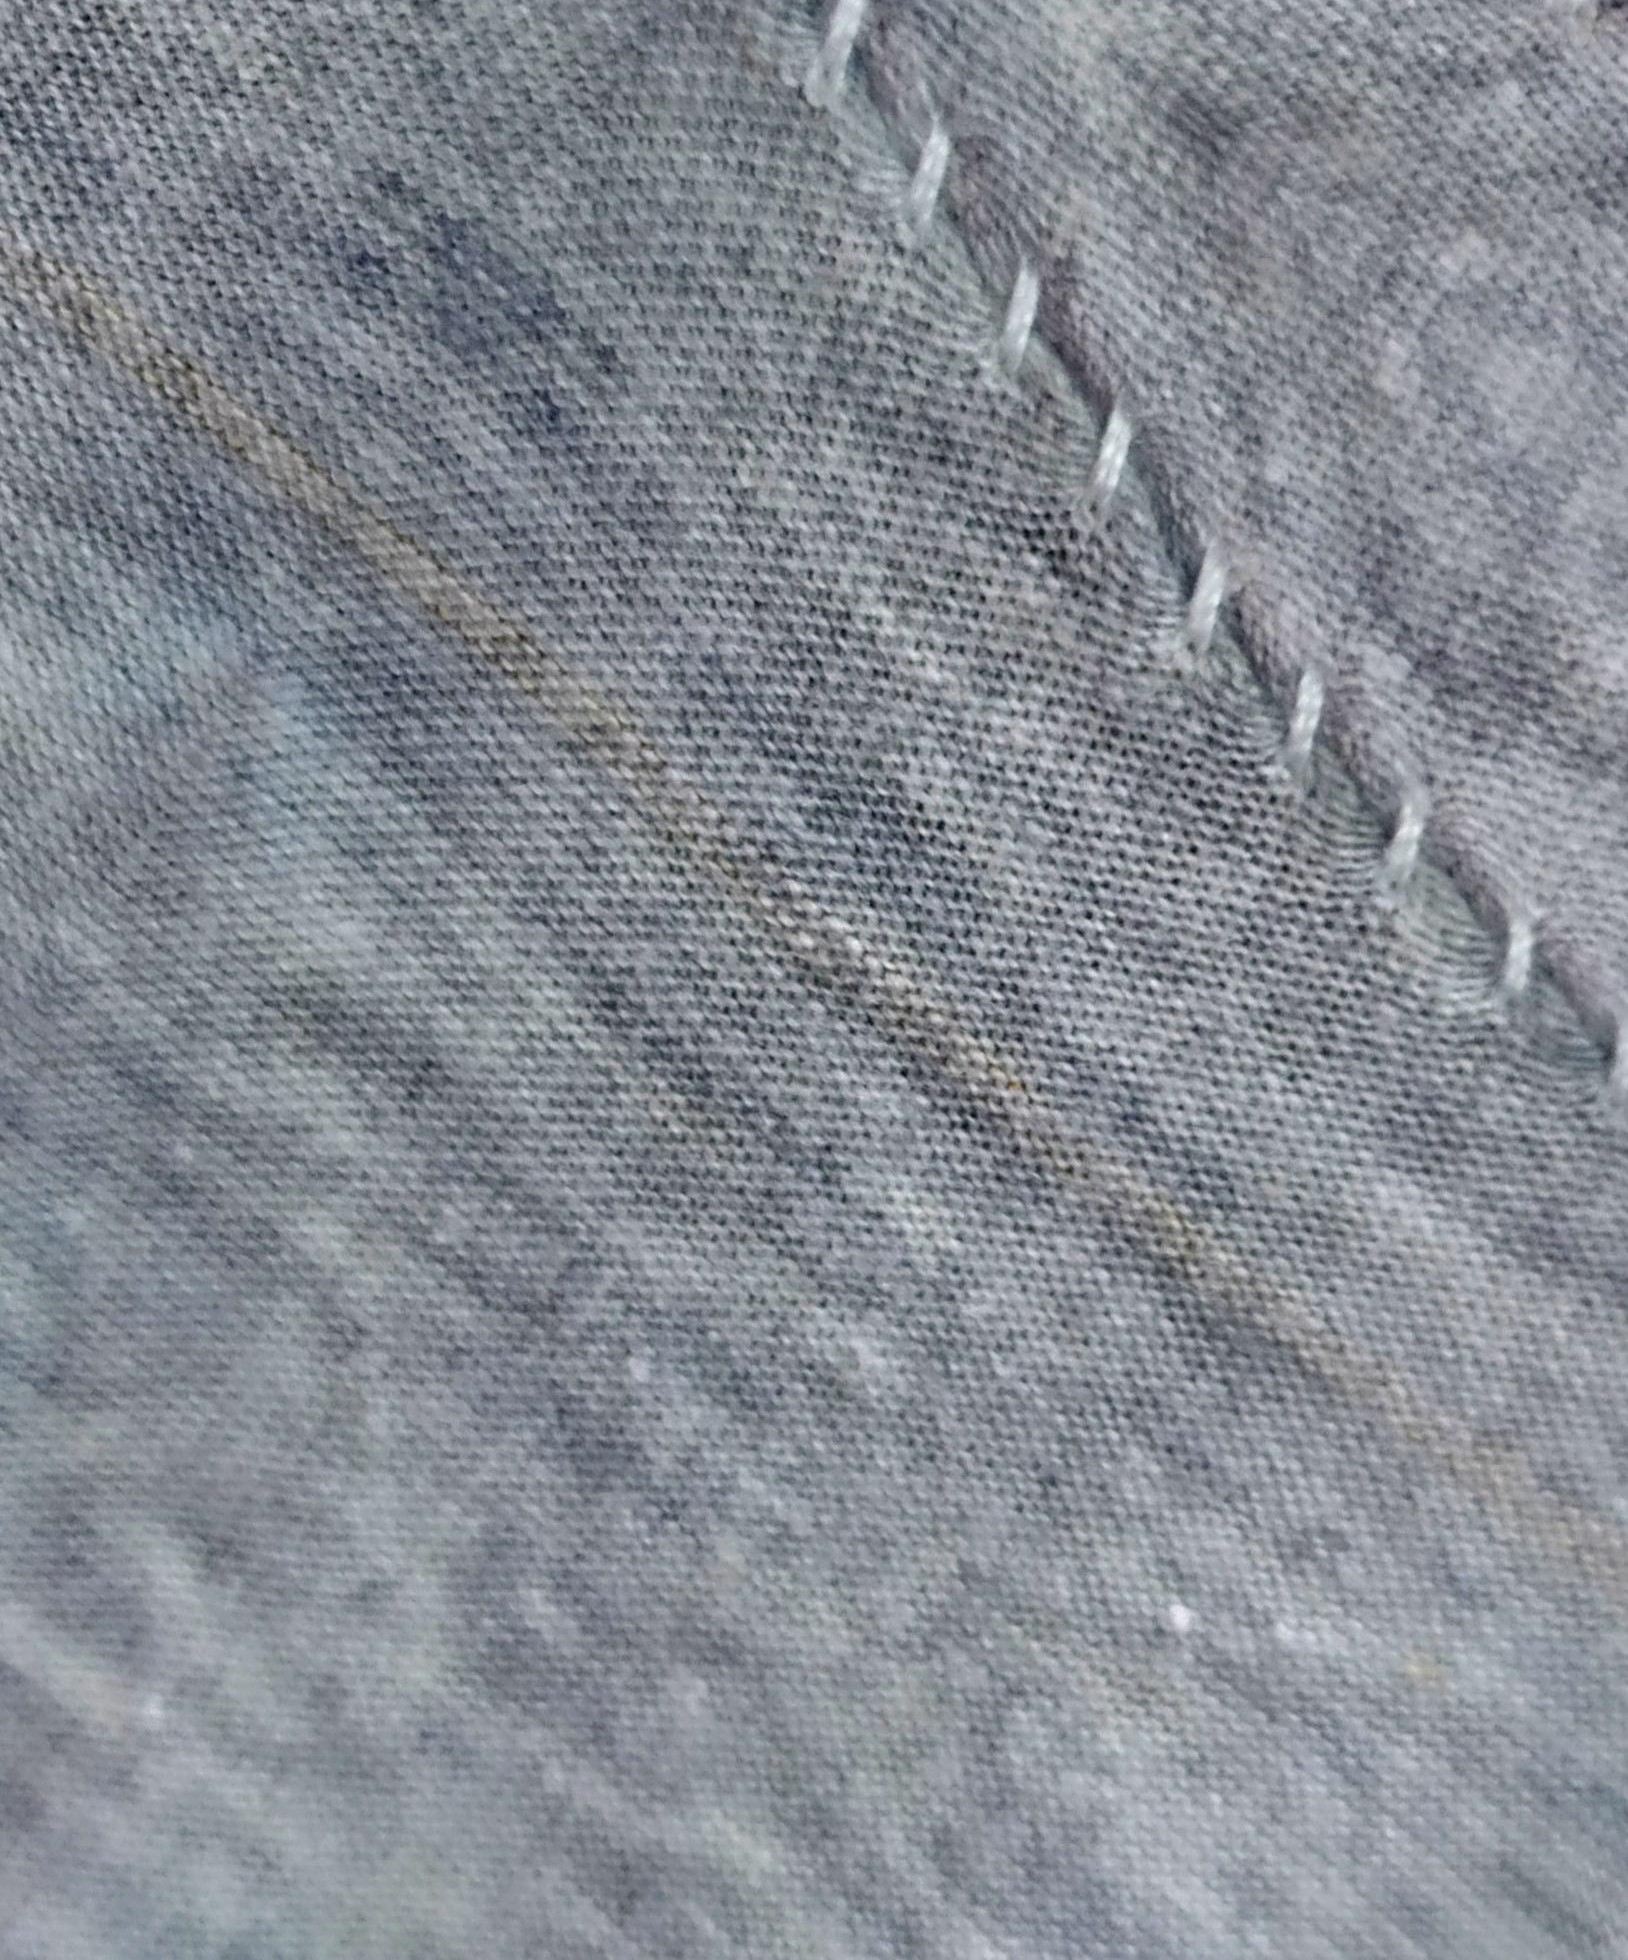slub: (788, 5, 1620, 1172)
